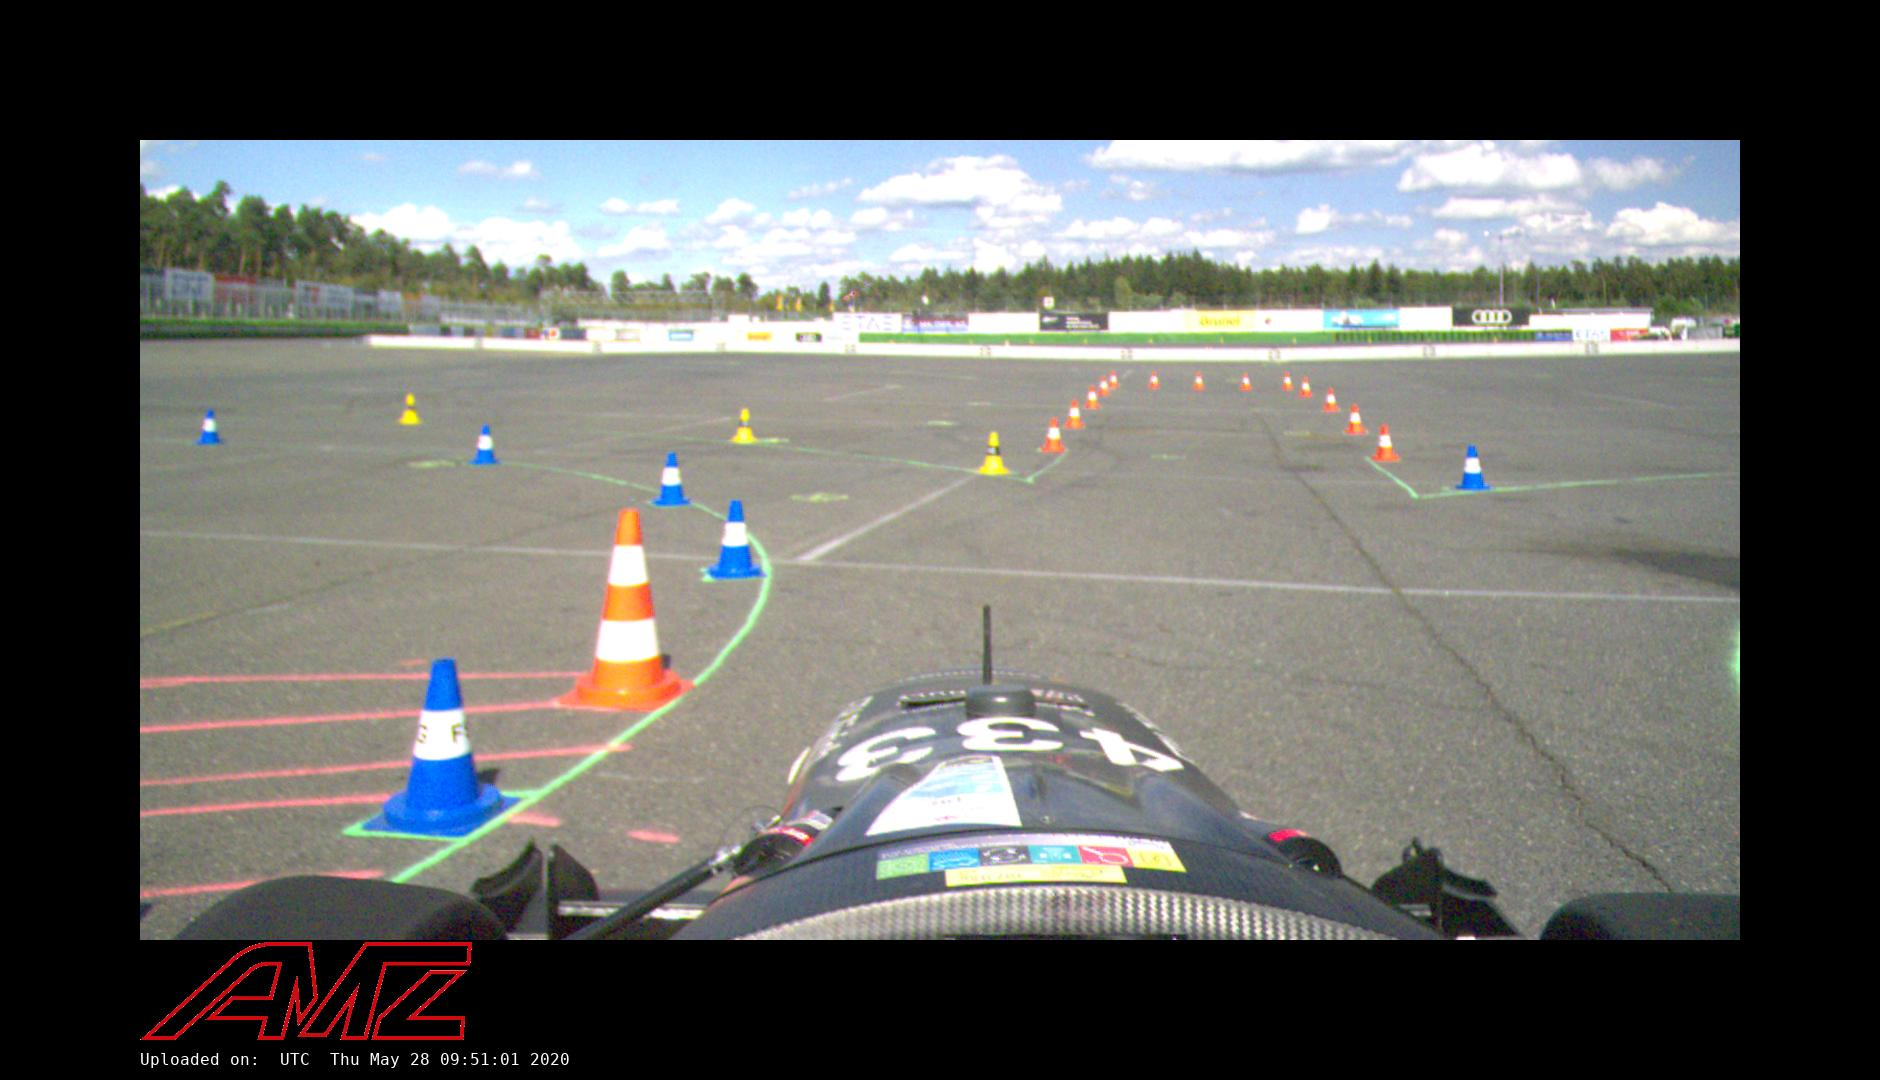blue_cone: (352, 652, 523, 844), (704, 497, 763, 576), (649, 453, 690, 508), (1453, 444, 1491, 490), (467, 422, 500, 462), (194, 406, 223, 444)
large_orange_cone: (563, 506, 684, 711)
orange_cone: (1367, 428, 1398, 464), (1039, 417, 1067, 453), (1345, 400, 1367, 438), (1063, 398, 1085, 429), (1083, 384, 1100, 411), (1323, 388, 1340, 413), (1192, 372, 1209, 391), (1240, 371, 1255, 391), (1300, 375, 1312, 402), (1098, 375, 1110, 397), (1147, 369, 1160, 390), (1108, 369, 1118, 391), (1283, 369, 1292, 391)
yellow_cone: (976, 431, 1008, 473), (730, 408, 758, 441), (396, 394, 422, 422)
